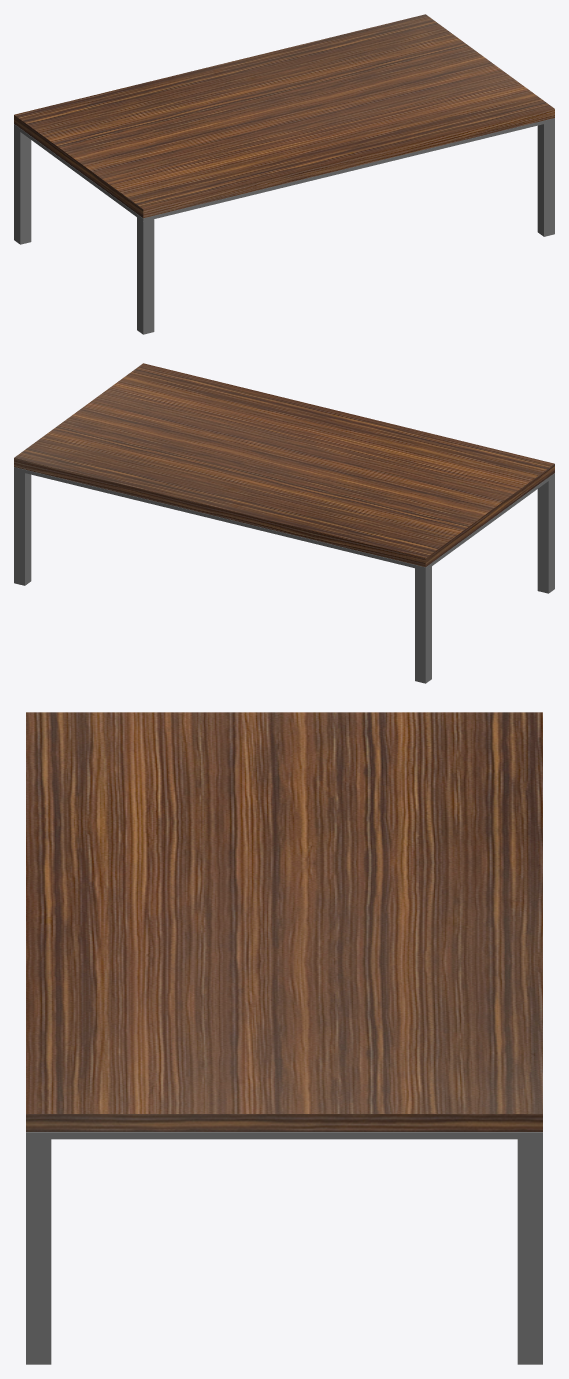
The model's file is table.obj.
3 renders of one model, top to bottom at view 1: azimuth 30°, elevation 25°; view 2: azimuth 150°, elevation 25°; view 3: azimuth 270°, elevation 25°, orthographic. The views are drawn at different scales.
Visible parts, largest first — view 1: house_interior:Box032 group1, group1 house_interior:Box033; view 2: house_interior:Box032 group1, group1 house_interior:Box033; view 3: house_interior:Box032 group1, group1 house_interior:Box033.
Part boxes in pixels (<box>): house_interior:Box032 group1: <box>14,14,554,218</box>; group1 house_interior:Box033: <box>14,118,554,334</box>; house_interior:Box032 group1: <box>14,363,554,567</box>; group1 house_interior:Box033: <box>14,467,554,683</box>; house_interior:Box032 group1: <box>26,712,542,1131</box>; group1 house_interior:Box033: <box>26,1132,542,1364</box>.
Bounding box in the file's own units: 4.59 × 1.34 × 2.5.
2 materials, 1 textured.
